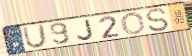2: (98, 15, 122, 40)
9: (49, 22, 71, 45)
J: (76, 18, 95, 41)
O: (121, 11, 147, 35)
S: (144, 7, 171, 33)
U: (21, 23, 48, 49)
